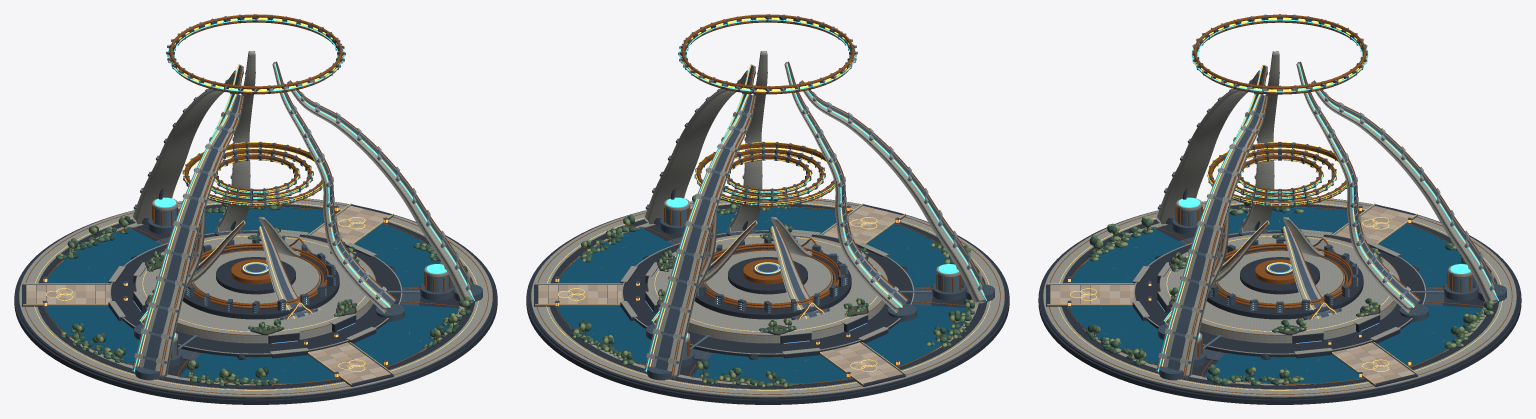
File: convergencia-refinada.glb
The picture shows the model from 3 angles, left to right: view 1: azimuth 30°, elevation 25°; view 2: azimuth 150°, elevation 25°; view 3: azimuth 270°, elevation 25°; orthographic projection.
Parts seen in each view (by area): view 1: CONVERGENCE_STATIC, HINGE_1, HINGE_2, HINGE_0, HINGE_3, HINGE_5, INJECTOR_ARM_0, Crown containment copper.001, EFFECT_ORBIT_1, HINGE_4, Crown containment copper, INJECTOR_ARM_1 (+6 smaller); view 2: CONVERGENCE_STATIC, HINGE_2, HINGE_0, HINGE_1, HINGE_4, HINGE_3, INJECTOR_ARM_1, Crown containment copper.001, EFFECT_ORBIT_1, HINGE_5, Crown containment copper, INJECTOR_ARM_2 (+6 smaller); view 3: CONVERGENCE_STATIC, HINGE_0, HINGE_1, HINGE_2, HINGE_5, HINGE_4, INJECTOR_ARM_2, Crown containment copper.001, EFFECT_ORBIT_1, HINGE_3, Crown containment copper, INJECTOR_ARM_0 (+6 smaller).
Boxes of the visible parts, x1,y1,x2,y2 form: CONVERGENCE_STATIC: (14,194,497,404); HINGE_1: (132,94,243,378); HINGE_2: (132,70,243,224); HINGE_0: (287,81,473,302); HINGE_3: (272,61,396,313); HINGE_5: (217,51,255,232); INJECTOR_ARM_0: (258,225,309,318); Crown containment copper.001: (169,14,342,89); EFFECT_ORBIT_1: (183,142,322,206); HINGE_4: (139,64,243,324); Crown containment copper: (172,20,341,94); INJECTOR_ARM_1: (190,220,245,283); CONVERGENCE_STATIC: (526,194,1009,404); HINGE_2: (644,94,755,378); HINGE_0: (644,70,755,224); HINGE_1: (799,80,985,303); HINGE_4: (784,62,908,312); HINGE_3: (729,51,767,232); INJECTOR_ARM_1: (770,225,821,318); Crown containment copper.001: (681,14,854,89); EFFECT_ORBIT_1: (695,142,834,206); HINGE_5: (651,64,755,324); Crown containment copper: (682,20,851,94); INJECTOR_ARM_2: (702,220,757,283); CONVERGENCE_STATIC: (1038,196,1521,404); HINGE_0: (1156,94,1267,378); HINGE_1: (1156,71,1267,224); HINGE_2: (1311,80,1497,303); HINGE_5: (1296,62,1419,313); HINGE_4: (1241,51,1279,232); INJECTOR_ARM_2: (1282,225,1333,318); Crown containment copper.001: (1193,14,1366,89); EFFECT_ORBIT_1: (1207,142,1346,206); HINGE_3: (1163,65,1267,324); Crown containment copper: (1195,20,1364,94); INJECTOR_ARM_0: (1214,220,1269,283).
Bounding box in the file's own units: 71.4 × 41.15 × 71.4.
Materials: 23 (4 with a texture image).
